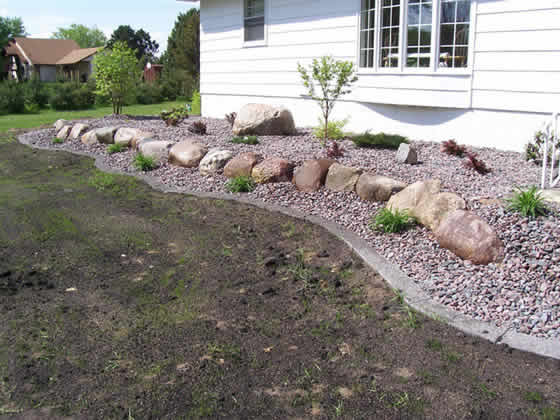dirt: (1, 195, 405, 327), (3, 325, 557, 419), (1, 146, 144, 188)
rock: (373, 131, 557, 354), (207, 104, 376, 249), (23, 113, 207, 191)
